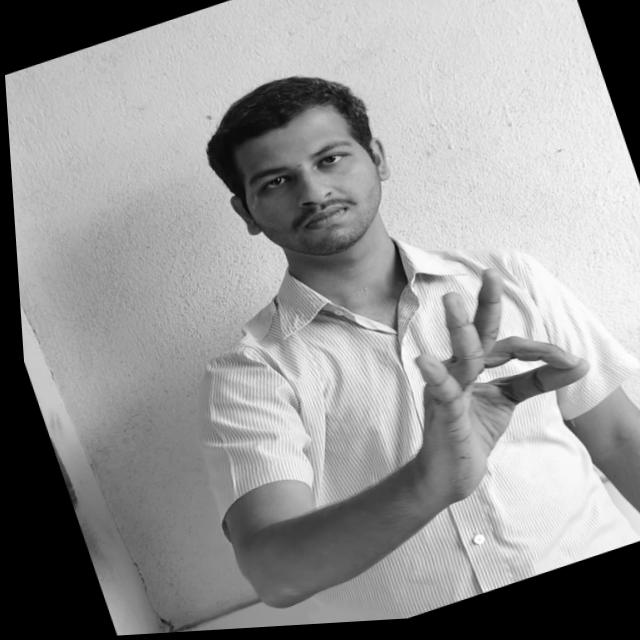Superb: (385, 250, 608, 497)
